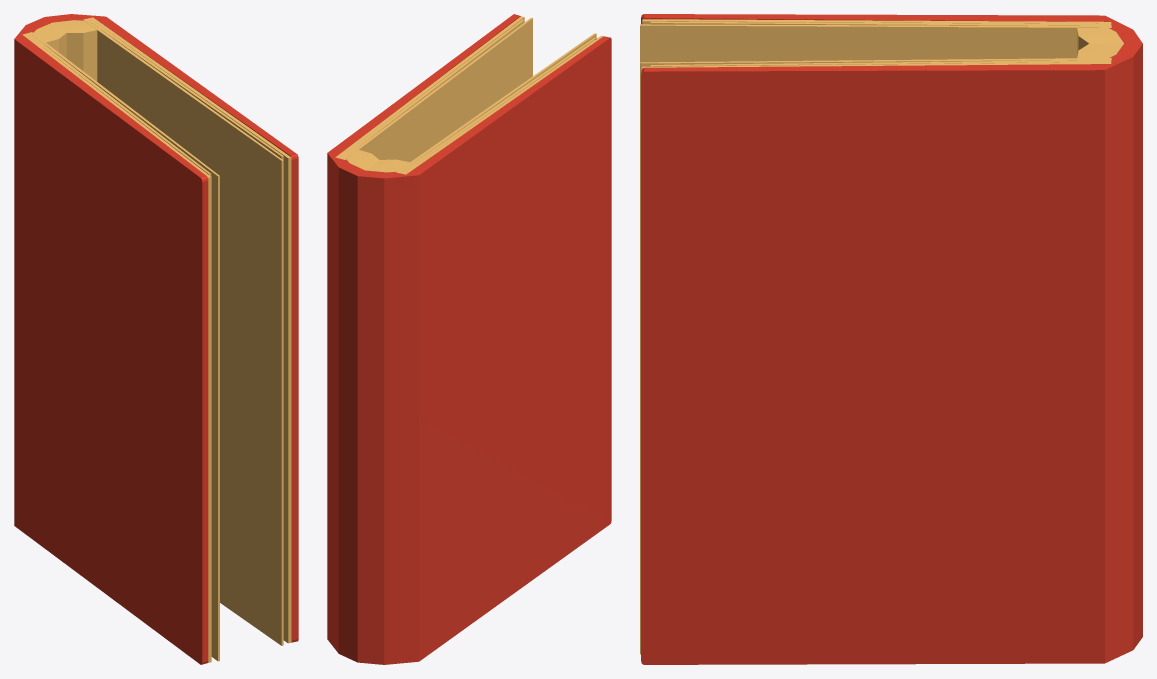
The model's file is openingBook.fbx.
3 renders of one model, left to right at view 1: azimuth 30°, elevation 25°; view 2: azimuth 150°, elevation 25°; view 3: azimuth 270°, elevation 25°, orthographic. The views are drawn at different scales.
Parts seen in each view (by area): view 1: book_R_part.002, book_R_part, book_R_part.001; view 2: book_R_part.002, book_R_part.001, book_R_part; view 3: book_R_part, book_R_part.001, book_R_part.002.
Part boxes in pixels (x1,y1,x2,y2): book_R_part.002: (14, 32, 219, 664); book_R_part: (83, 16, 298, 645); book_R_part.001: (14, 14, 107, 81); book_R_part.002: (396, 33, 611, 661); book_R_part.001: (327, 147, 420, 664); book_R_part: (327, 14, 532, 161); book_R_part: (640, 58, 1111, 664); book_R_part.001: (1076, 16, 1142, 663); book_R_part.002: (640, 14, 1111, 62).
Bounding box in the file's own units: 6.24 × 30.04 × 23.04.
